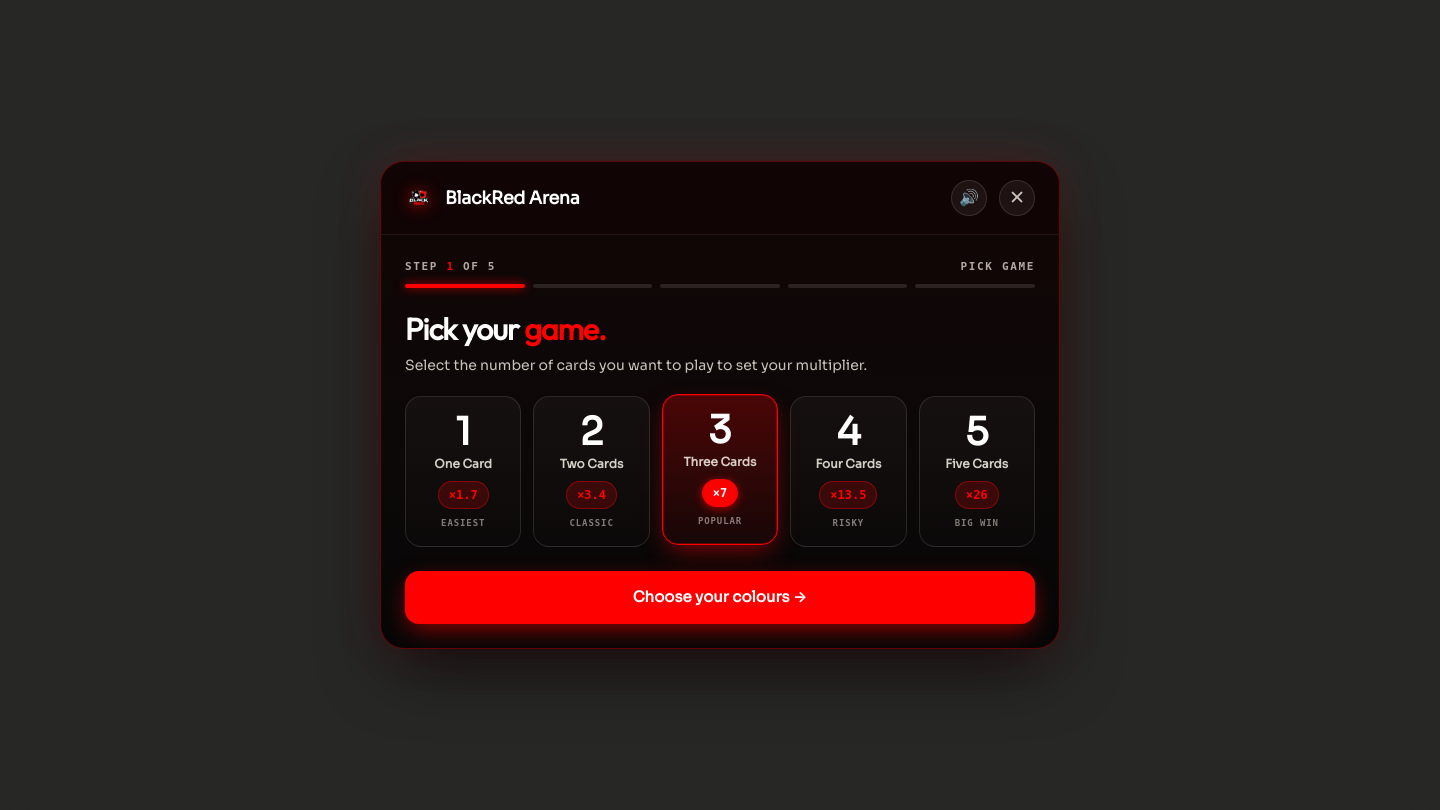
Test: BlackRedPlayModal › shows a real error message instead of proceeding when the purchase is refused
The width and height of the screenshot is (1440, 810).
Click the button "Choose your colours →" at (720, 597), box [405,571,1035,624]
(page scrolled)
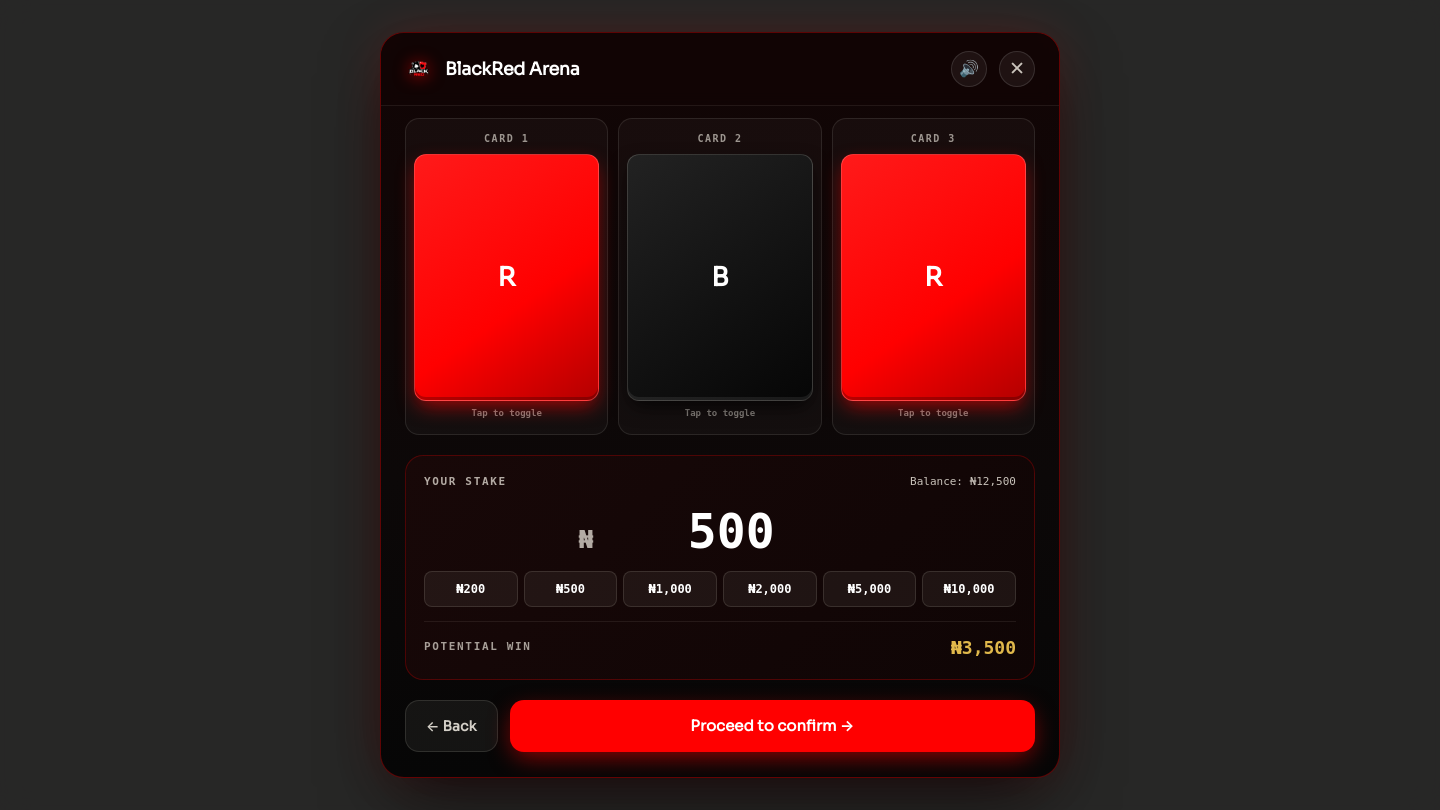
Click the button "Proceed to confirm →" at (772, 726), box [510,700,1035,752]
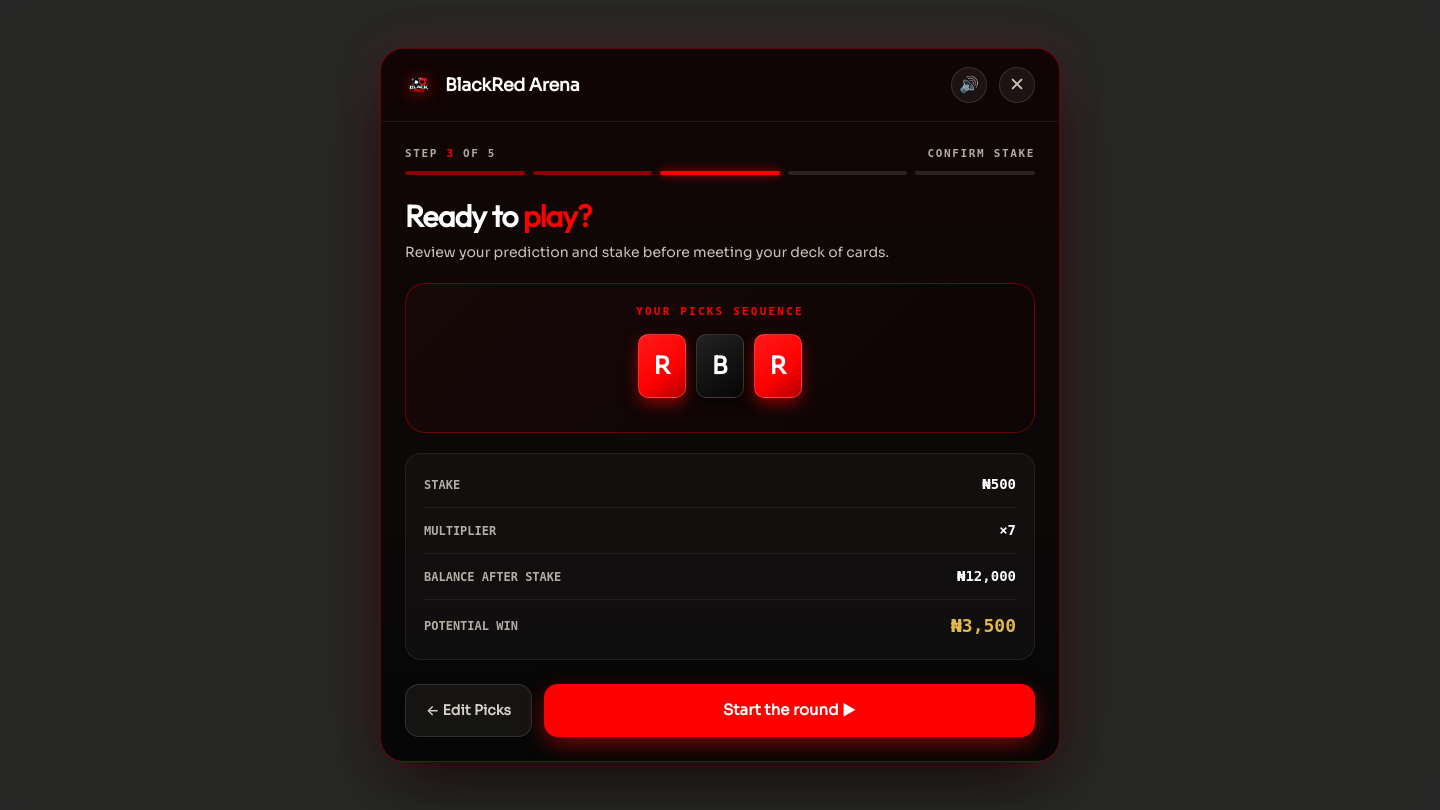
Click the button "Start the round ▶" at (790, 710), box [544,684,1035,737]
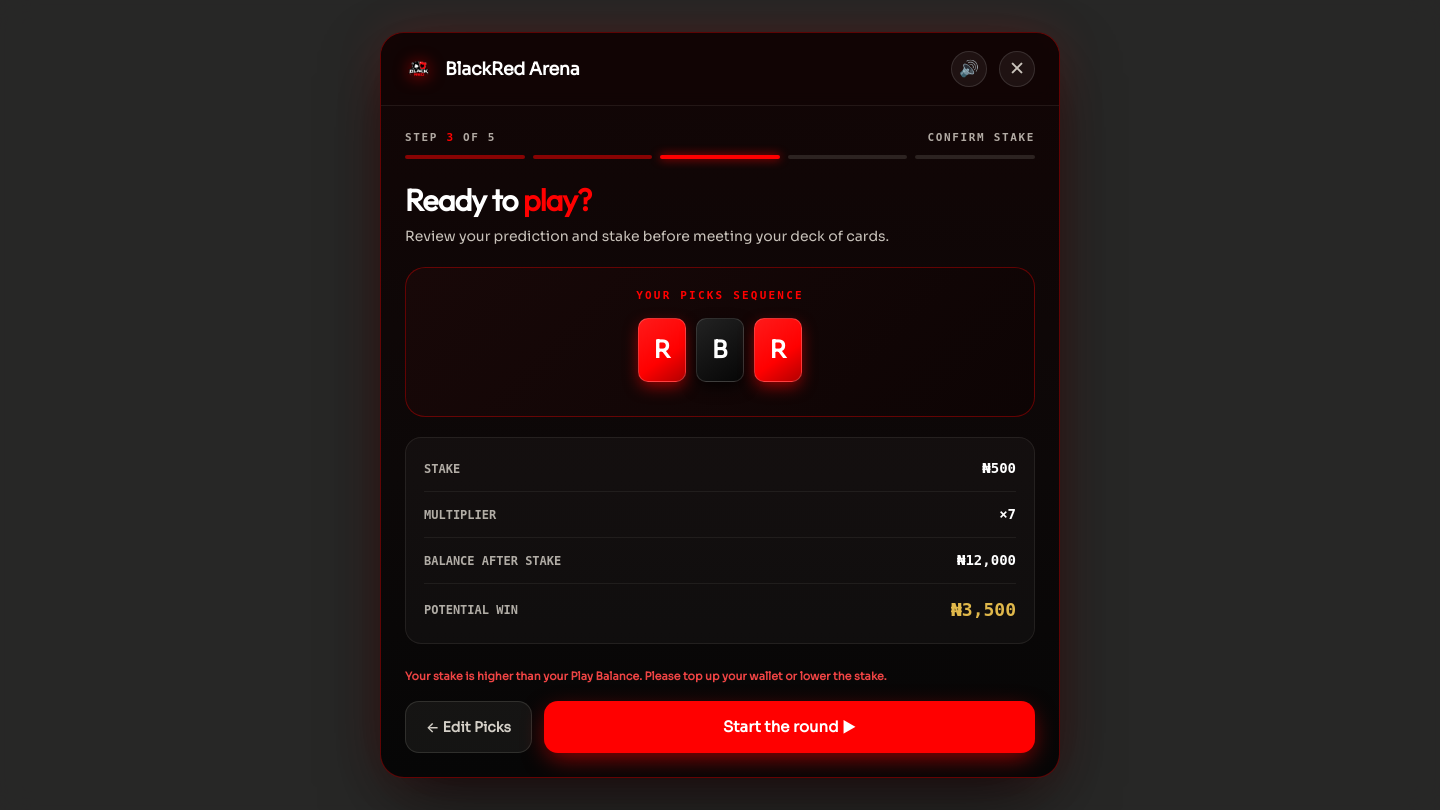
Expected: the text "higher than your Play Balance" is shown, [405,669,887,683]
